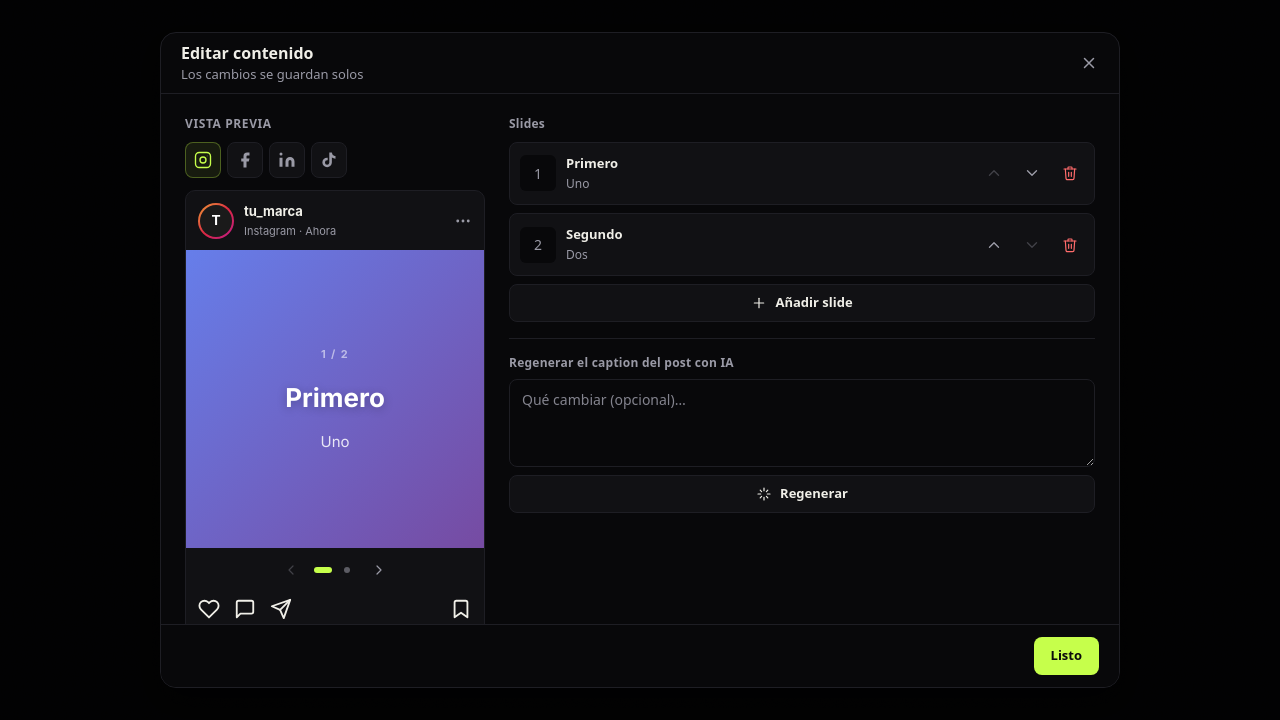
Scenario: EditContentModal — slides › el encabezado del slide es un botón que despliega sus campos con etiqueta
Click the button "1 Primero Uno". click: (538, 173)
box: [514, 147, 972, 200]
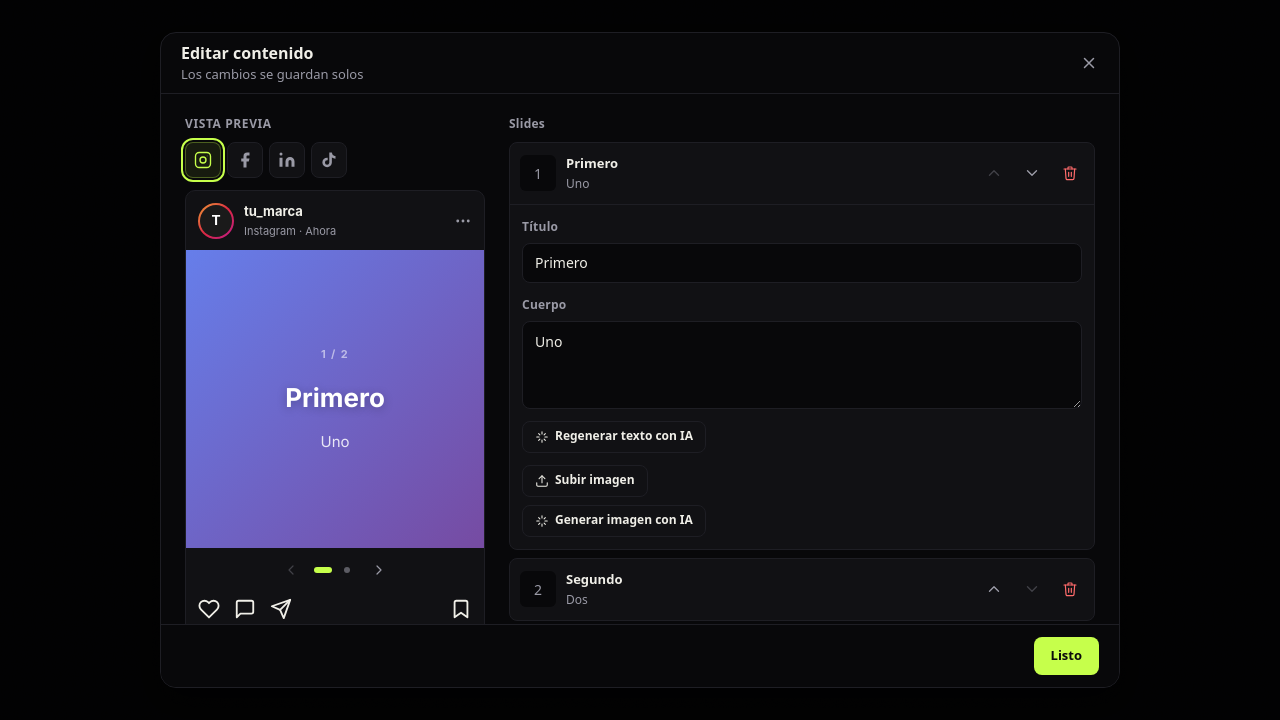
Now the field labelled "Título" holds "Primero", box [522, 243, 1082, 283]
Now the text box labelled "Cuerpo" holds "Uno", box [522, 321, 1082, 409]
